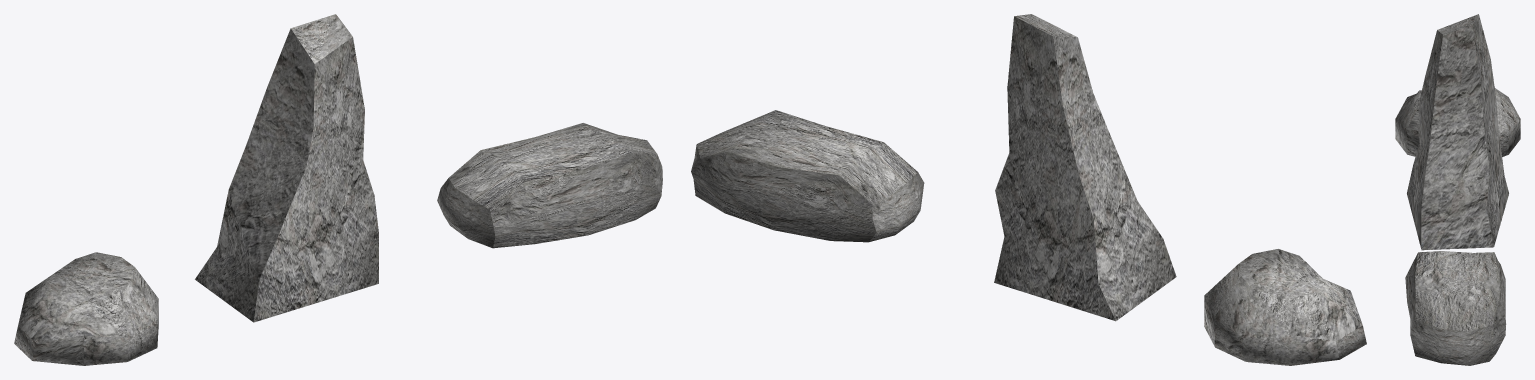
File: 石頭FN.fbx
3 views of the same model, side by side, from view 1: azimuth 30°, elevation 25°; view 2: azimuth 150°, elevation 25°; view 3: azimuth 270°, elevation 25° (orthographic). The views are drawn at different scales.
Visible parts, largest first — view 1: Box001, Box002, Sphere001; view 2: Box001, Box002, Sphere001; view 3: Box001, Box002, Sphere001.
Part boxes in pixels (x1,y1,x2,y2): Box001: (195, 14, 378, 322); Box002: (437, 123, 662, 248); Sphere001: (14, 252, 158, 365); Box001: (994, 14, 1176, 321); Box002: (691, 110, 924, 242); Sphere001: (1204, 249, 1366, 365); Box001: (1407, 14, 1508, 250); Box002: (1405, 251, 1506, 365); Sphere001: (1395, 88, 1520, 156).
Bounding box in the file's own units: 63.04 × 24.05 × 12.38.
Materials: 1 (1 with a texture image).
